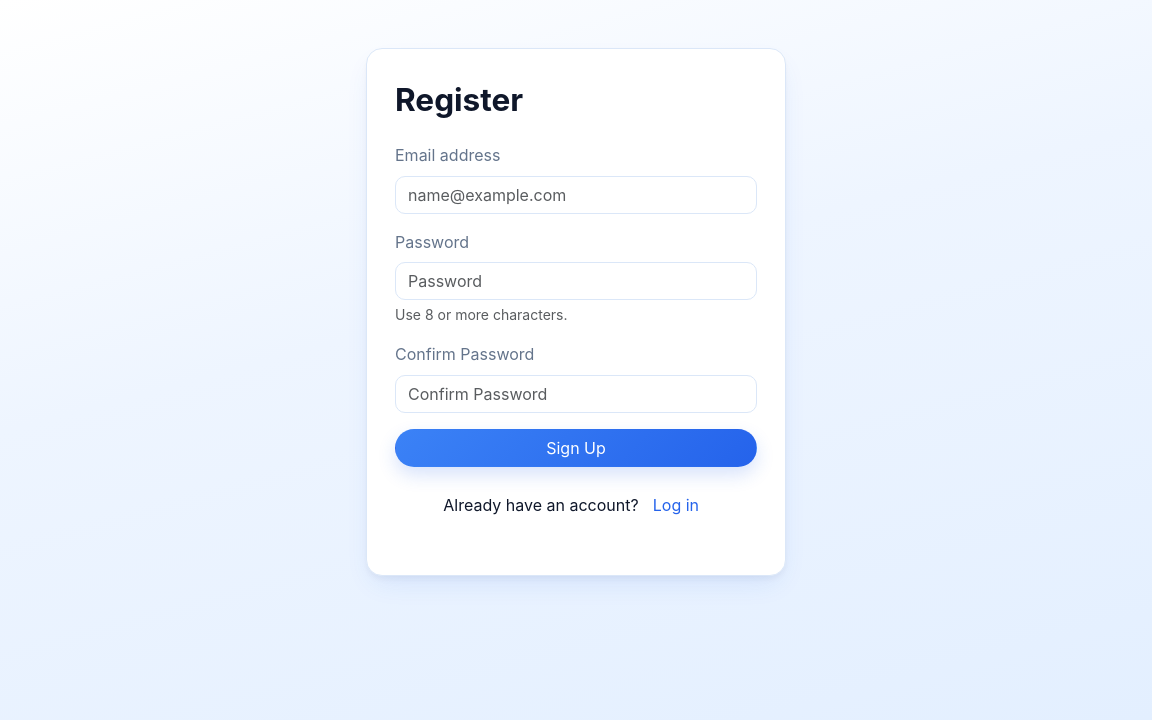
Test: Register Page › validates form inputs and shows errors
The image size is (1152, 720).
Click the button "Sign Up" at [576, 448], box [395,429,757,467]
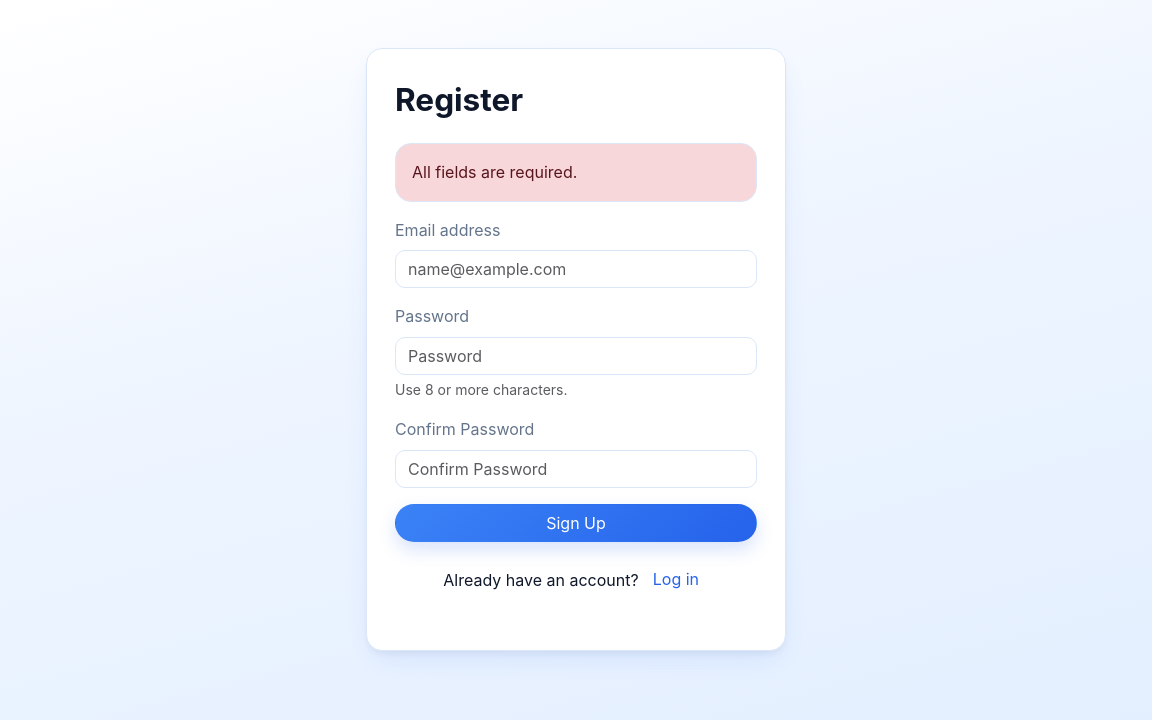
Expected: the text "All fields are required." is shown, [395,143,757,202]
Type "a@b.co" into the field labelled "Email address" at [576, 270], box [395,250,757,288]
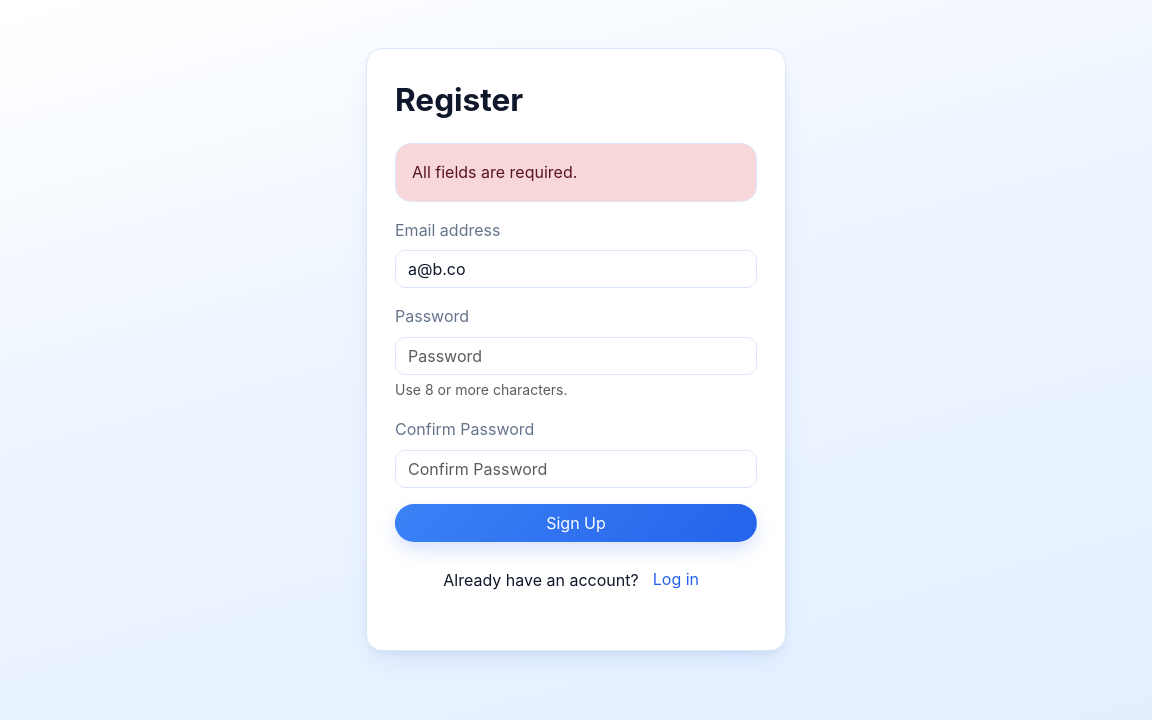
Type "secret1" into the password field labelled "Password" at [576, 356], box [395,337,757,375]
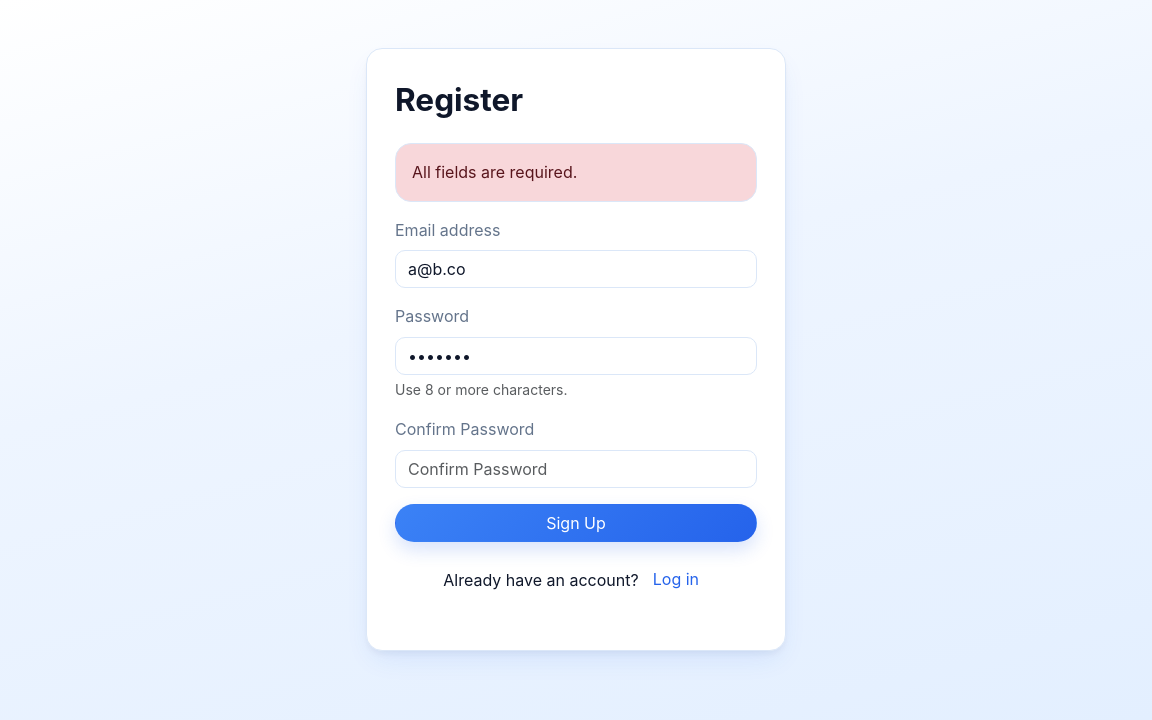
Type "secret2" into the password field labelled "Confirm Password" at [576, 469], box [395,450,757,488]
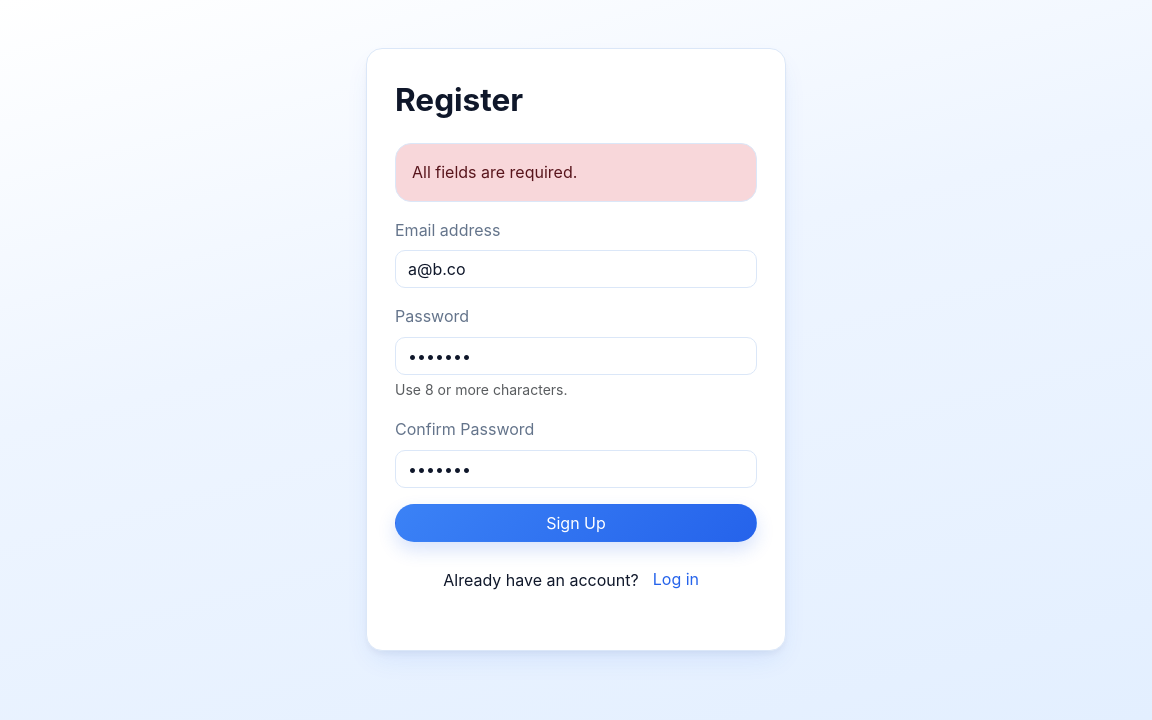
Click the button "Sign Up" at [576, 523], box [395,504,757,542]
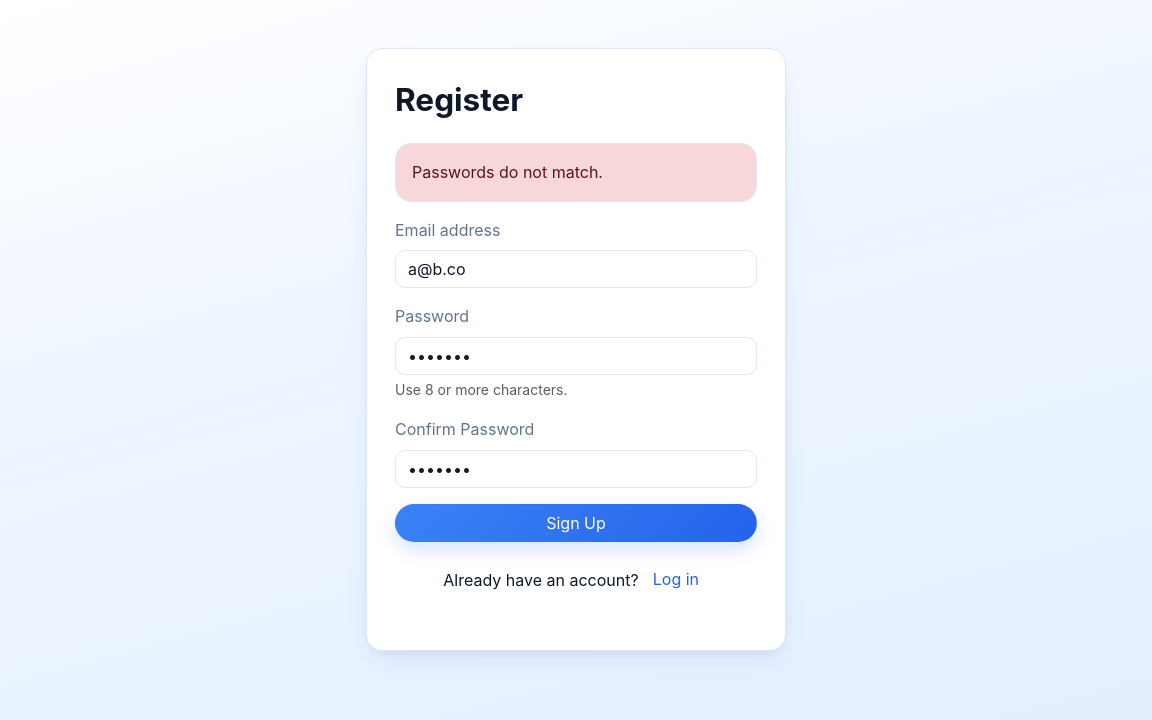
Expected: the text "Passwords do not match." is shown, [395,143,757,202]
